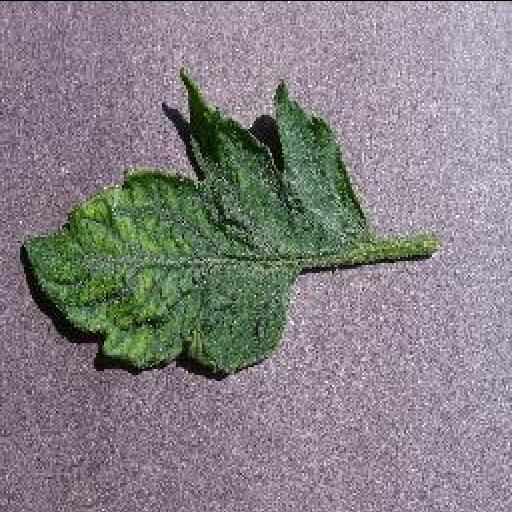disease_tomato: (24, 64, 366, 378)
